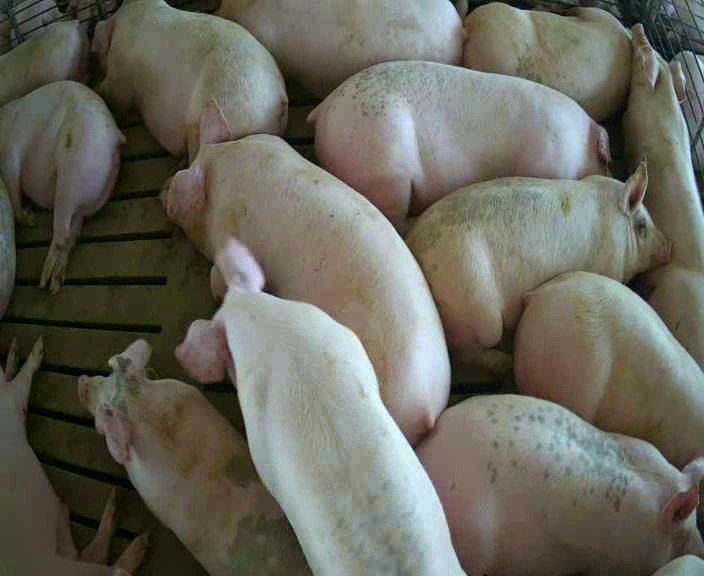pig: (176, 240, 462, 573), (406, 163, 670, 370), (79, 339, 310, 572), (417, 395, 703, 574), (308, 61, 609, 222), (514, 271, 703, 466), (0, 339, 147, 574), (92, 2, 287, 159), (623, 25, 703, 366), (0, 81, 124, 293), (219, 2, 464, 96), (464, 3, 630, 121), (0, 20, 88, 105)
